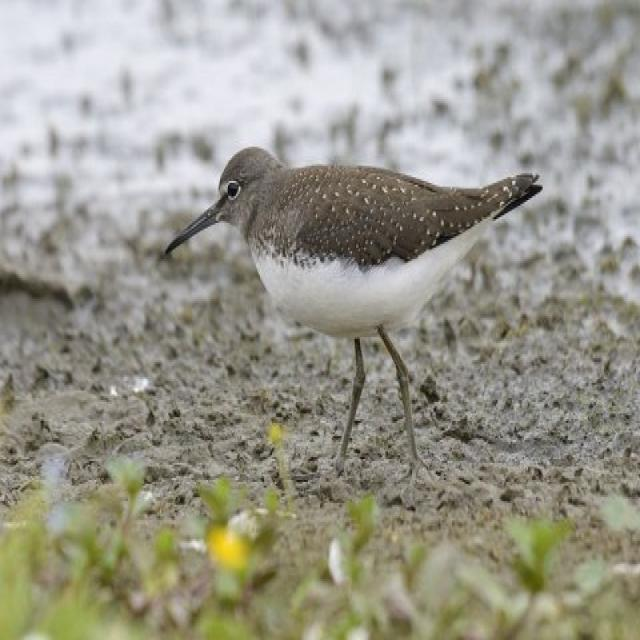Sandpiper: (162, 140, 538, 460)
